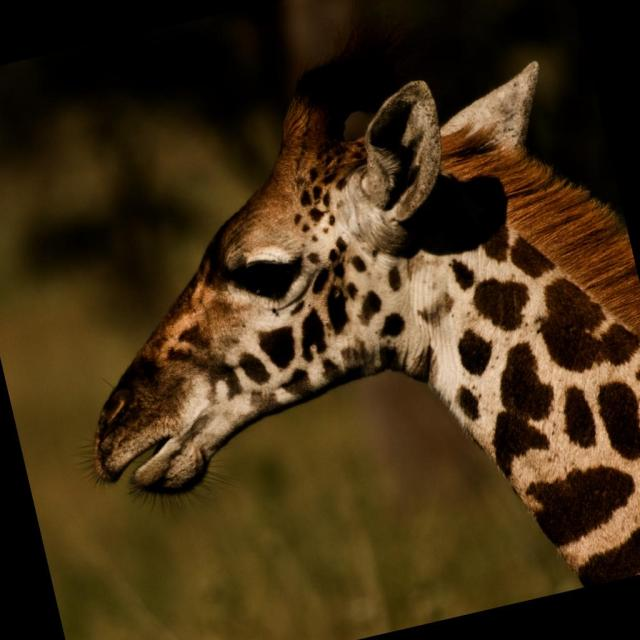Giraffe: (65, 65, 640, 562)
